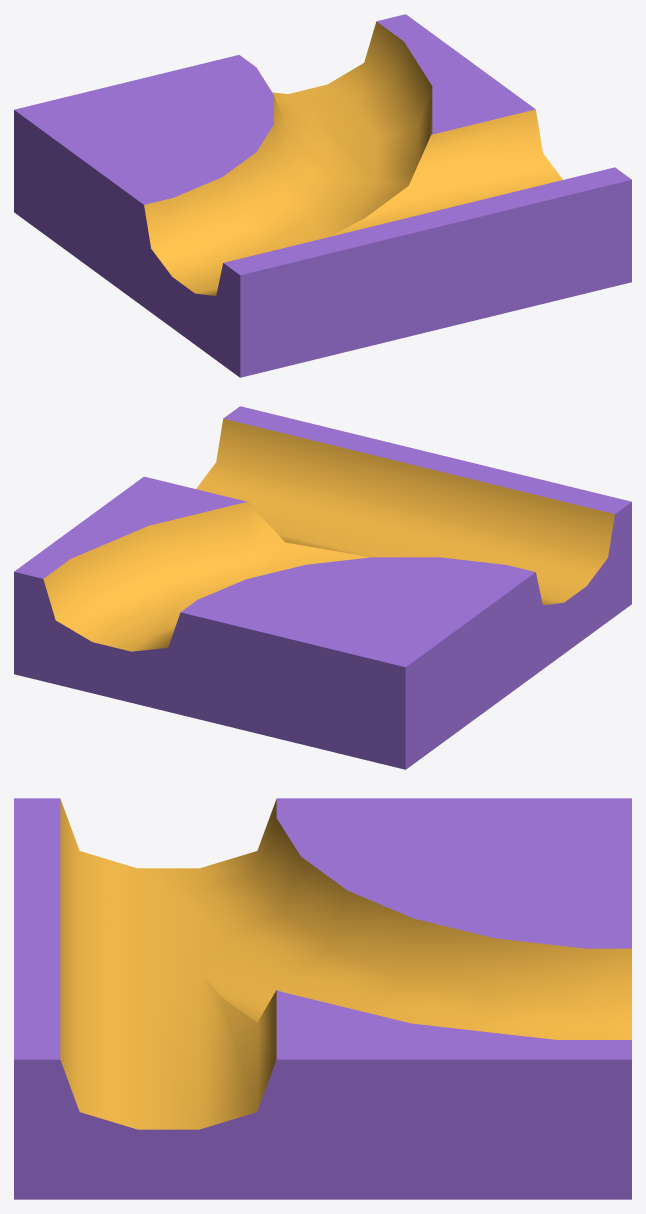
Rendered from kenney-marble-split-solid-left.glb.
3 views of the same model, one above another, from view 1: azimuth 30°, elevation 25°; view 2: azimuth 150°, elevation 25°; view 3: azimuth 270°, elevation 25° (orthographic). The views are drawn at different scales.
Parts seen in each view (by area): view 1: split-solid-left; view 2: split-solid-left; view 3: split-solid-left.
Part boxes in pixels (<box>): split-solid-left: <box>14,14,631,377</box>; split-solid-left: <box>14,406,631,769</box>; split-solid-left: <box>14,798,631,1199</box>.
Bounding box in the file's own units: 2 × 0.5001 × 2.
Materials: 1 (1 with a texture image).
